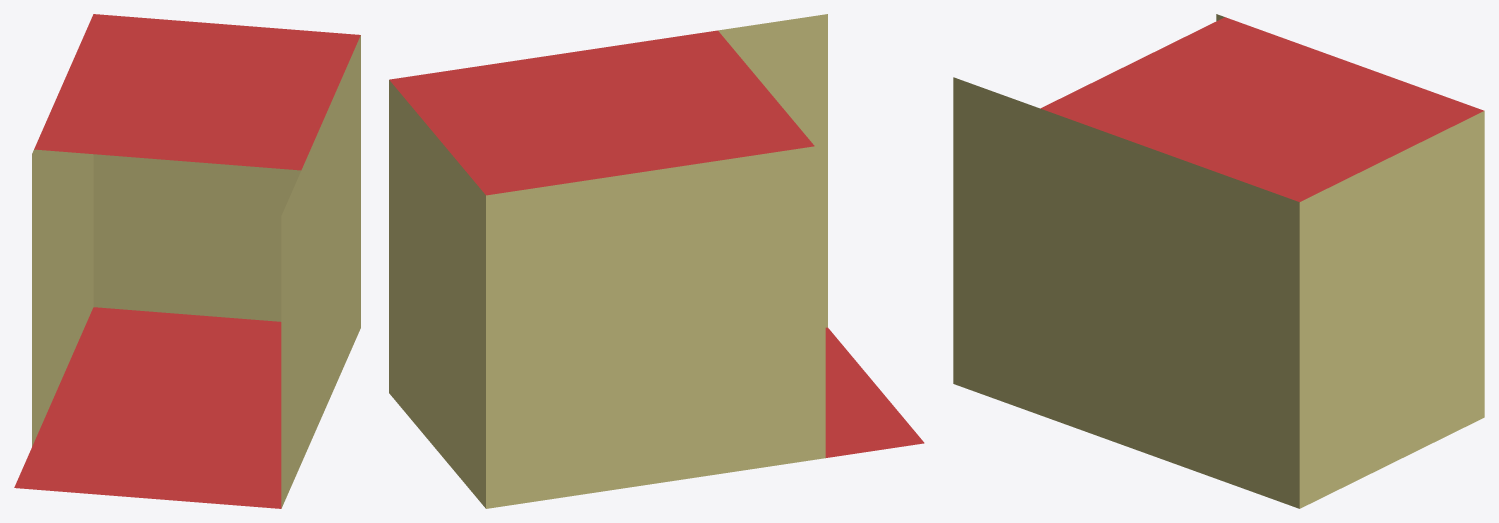
3 views of the same model, side by side, from view 1: azimuth 30°, elevation 25°; view 2: azimuth 150°, elevation 25°; view 3: azimuth 270°, elevation 25° (orthographic). The views are drawn at different scales.
Size of the model in its own units: 12.18 by 12.63 by 8.05.
